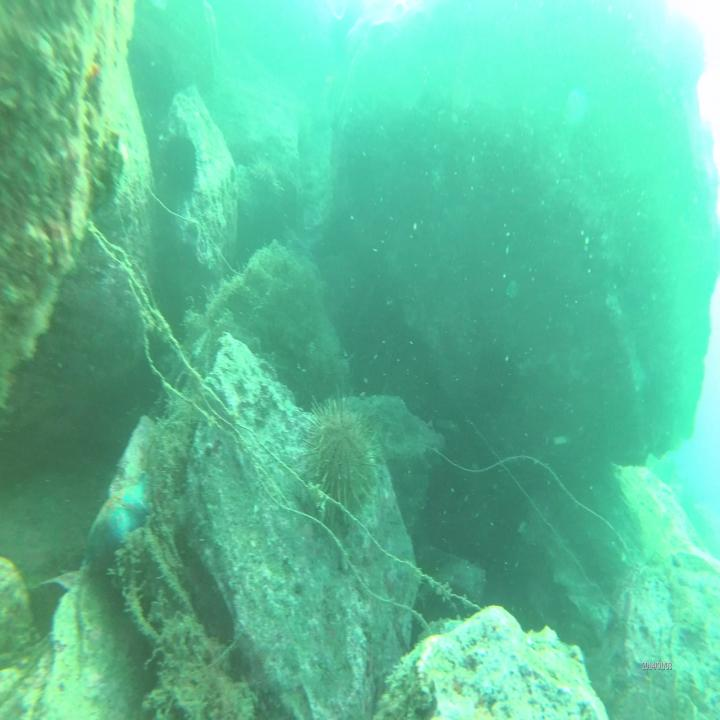echinus: (304, 393, 376, 511)
starfish: (86, 480, 150, 569)
